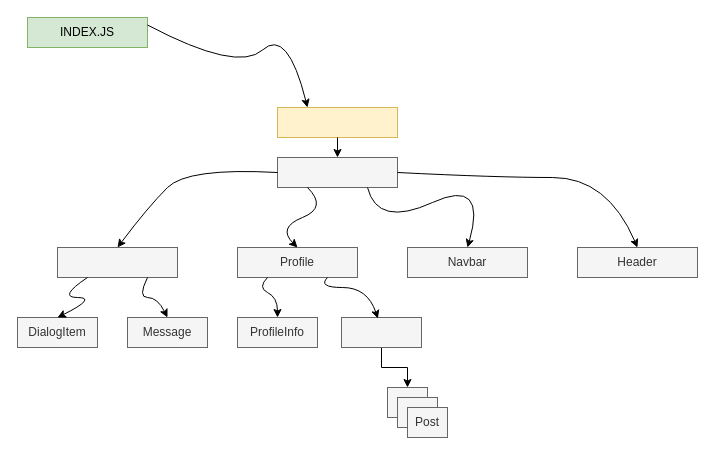
Image size: 715x455. Some labels were removed from this diagram. The centre of each missing label's shape, as x and y in pixels:
APP.JS: the point at 337,122
Bowser Route: the point at 337,172
Dialogs: the point at 117,262
MyPosts: the point at 381,332
